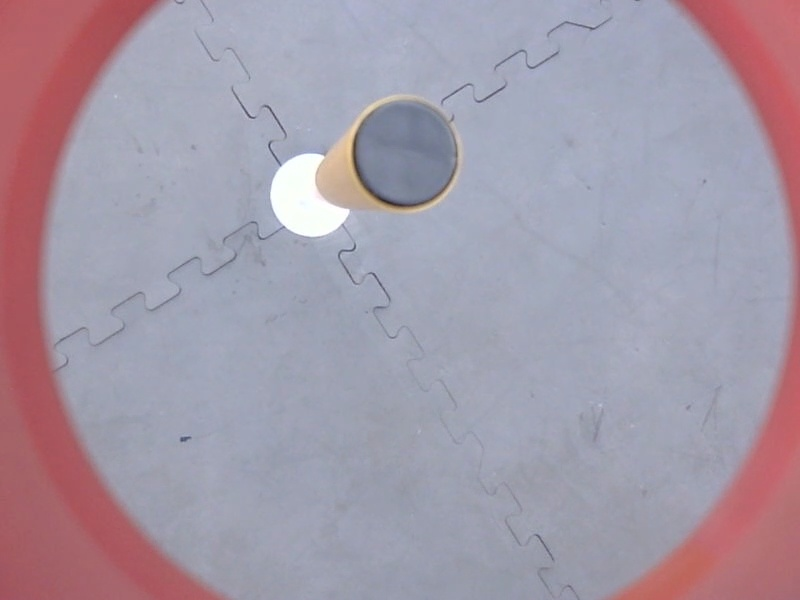tip: (345, 90, 468, 220)
